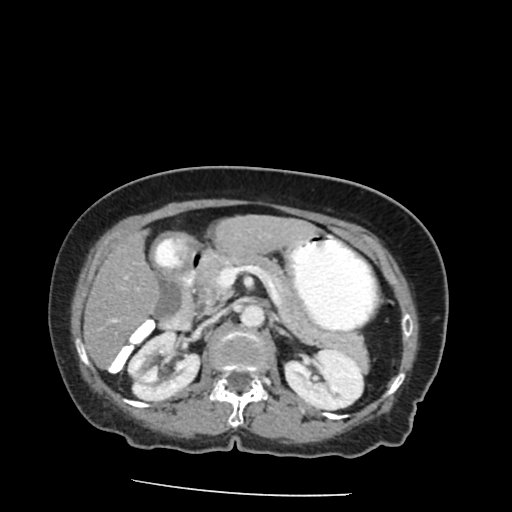aorta: (238, 301, 266, 330)
